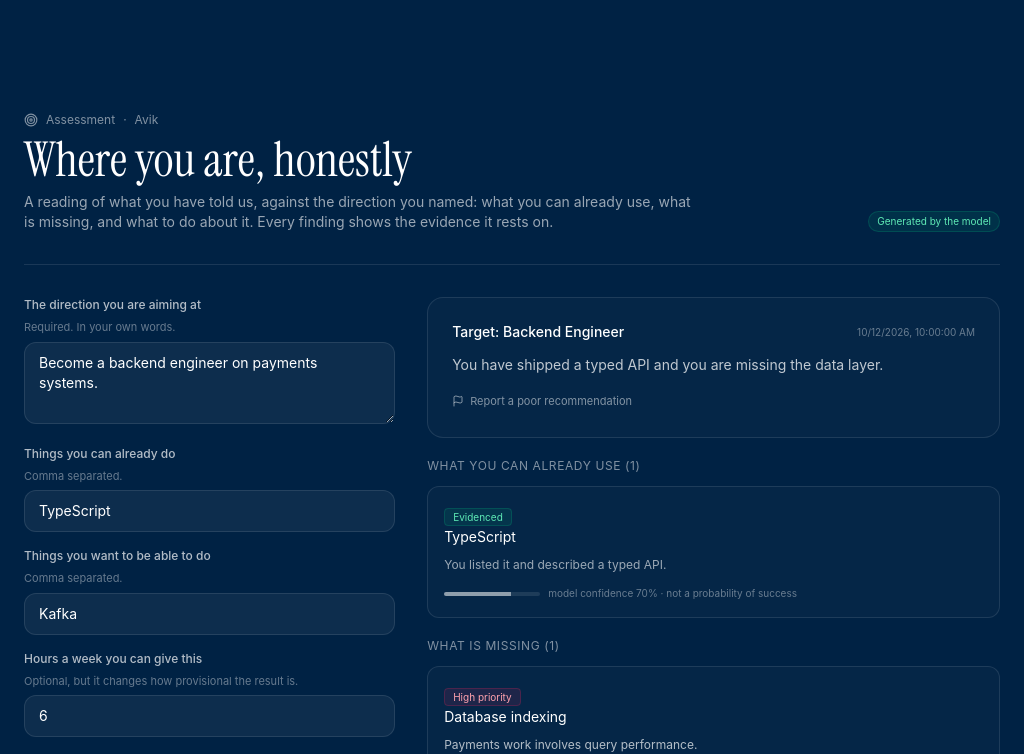
Test: AssessmentPanel › records a complaint about a poor recommendation
Click the button "Report a poor recommendation" at (542, 401), box top-left (452, 392), bottom-right (632, 409)
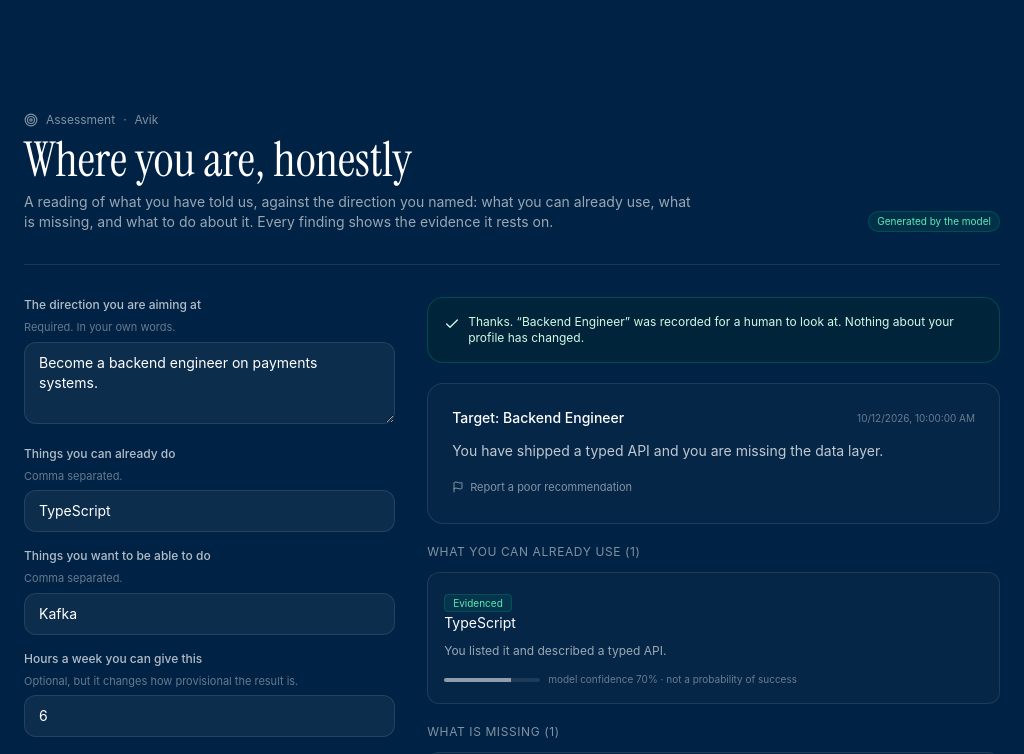
Result: the text "recorded for a human to look at" is shown at top-left (468, 314), bottom-right (954, 345)
